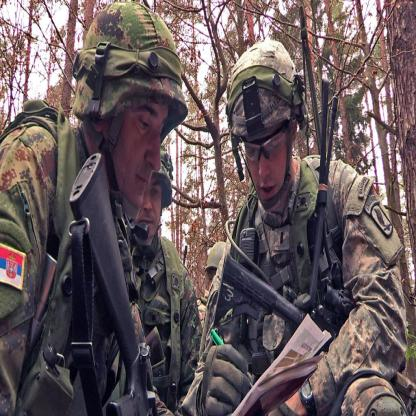Helmet: (71, 2, 189, 220), (225, 41, 309, 210), (202, 238, 225, 272)
